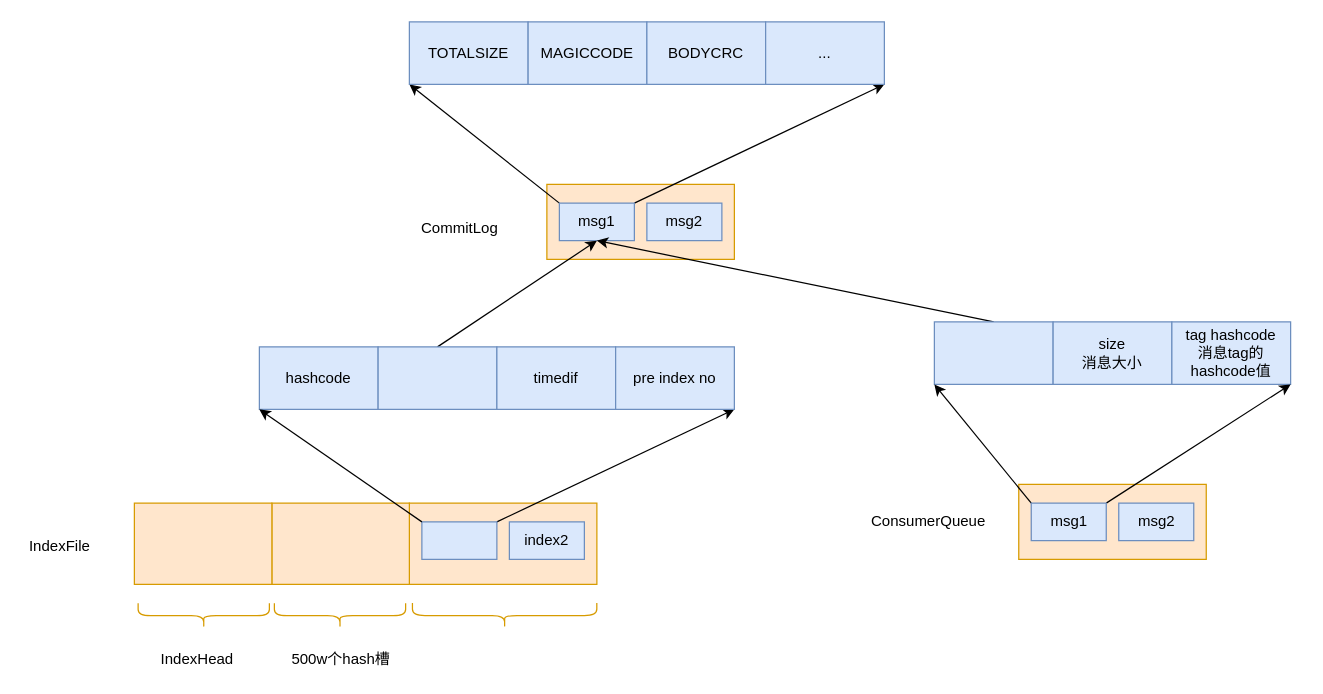
This 1323x694 diagram has some shape labels left out. Here are the shapes that lost their labels. From the top down, the box of each, then its label:
(933, 321, 1053, 384): commitlog offset commitlog偏移量
(377, 346, 497, 409): phyoffset
(421, 521, 497, 559): index1
(411, 602, 597, 628): 2000w个Index条目
